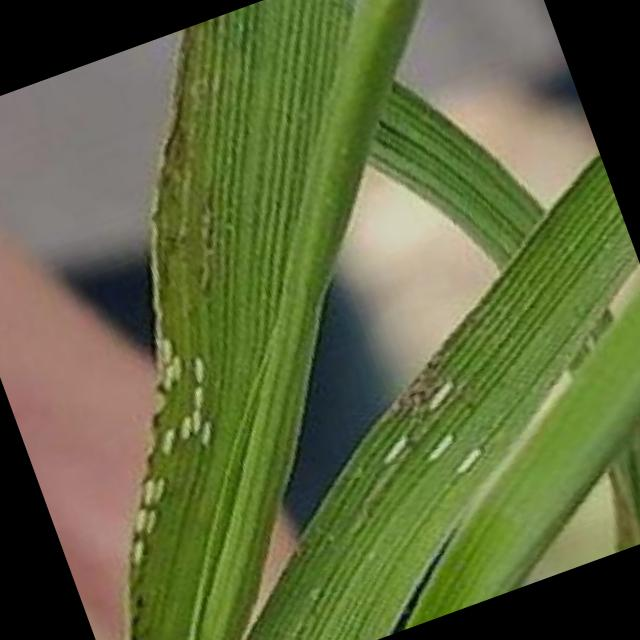whorl-maggot: (410, 364, 478, 426), (433, 438, 499, 496), (168, 334, 226, 399), (414, 423, 480, 480), (152, 349, 201, 395), (114, 504, 170, 544), (368, 432, 420, 474), (191, 413, 232, 450), (137, 468, 174, 509), (147, 424, 184, 460), (124, 536, 158, 574), (182, 378, 217, 413), (152, 338, 178, 364)
